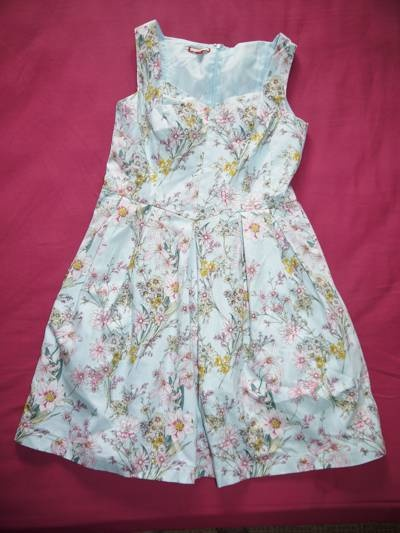Dress: (34, 5, 372, 475)
